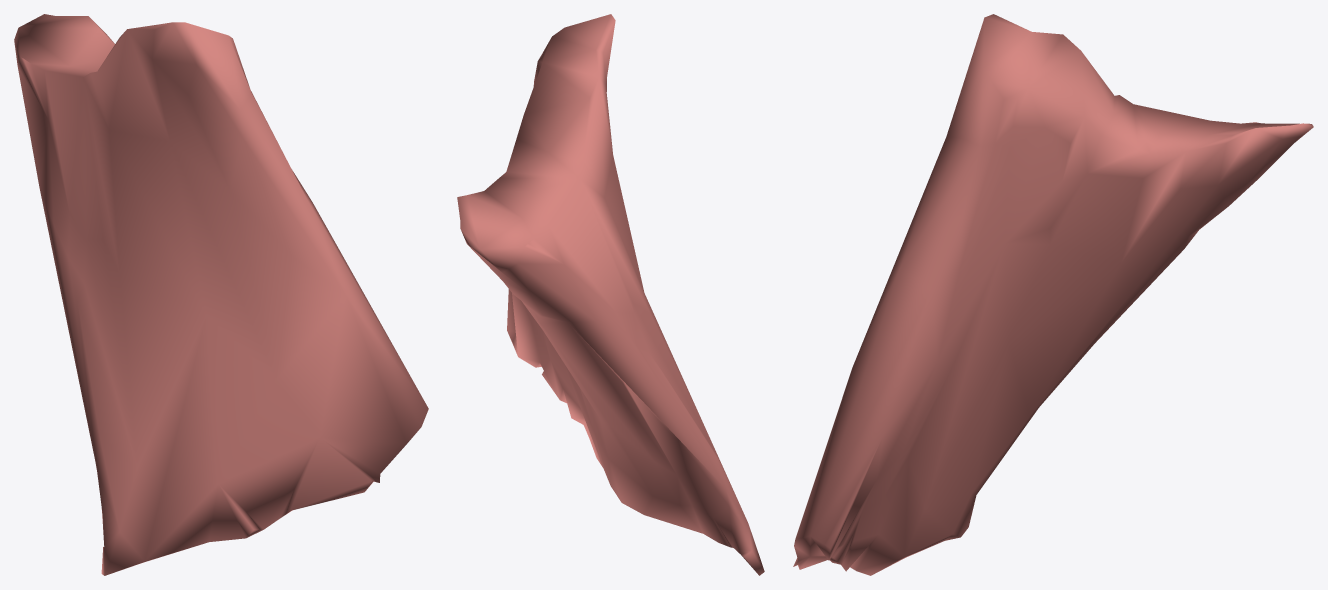
3 views of the same model, side by side, from view 1: azimuth 30°, elevation 25°; view 2: azimuth 150°, elevation 25°; view 3: azimuth 270°, elevation 25° (orthographic). The views are drawn at different scales.
Parts seen in each view (by area): view 1: ZA_0f8b2bf9a6108bc1; view 2: ZA_0f8b2bf9a6108bc1; view 3: ZA_0f8b2bf9a6108bc1.
Part boxes in pixels (x1,y1,x2,y2): ZA_0f8b2bf9a6108bc1: (14, 14, 428, 575); ZA_0f8b2bf9a6108bc1: (457, 14, 764, 575); ZA_0f8b2bf9a6108bc1: (793, 14, 1313, 575).
Bounding box in the file's own units: 0.0123 × 0.0213 × 0.0174.
